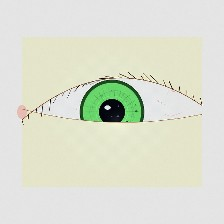pterygium_lesion: (21, 86, 85, 138)
